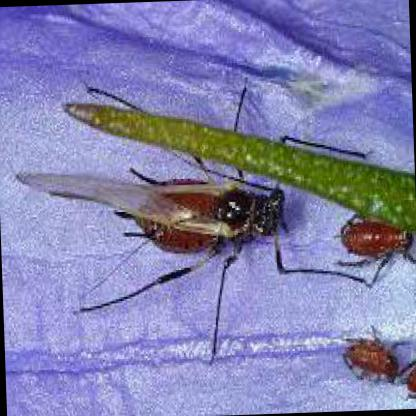uroleucon compositae: (16, 167, 291, 254)
